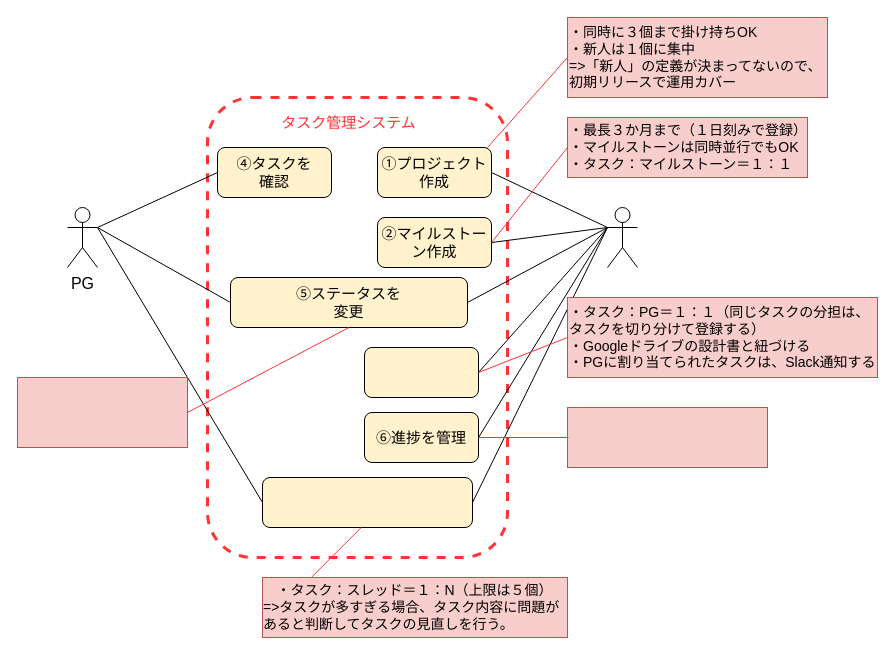
This 895x655 diagram has some shape labels left out. Here are the shapes that lost their labels. From the top down, the centre of each, then its label:
At (622,237): "SE".
At (421,372): "③タスクを 登録・管理".
At (102,412): "未着手、作業中、レビュー依頼中、レビュー中、完了 （権限管理は一旦割愛）".
At (667,437): "マイルストーン内のタスク完了率（％）を個人・全体で見る".
At (367,502): "⑦タスクに紐づくスレッド上で会話（質問、レビュー）".
